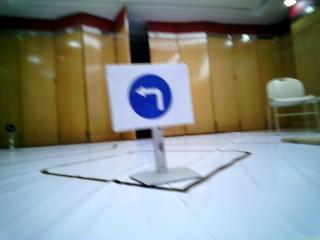left: (105, 65, 194, 123)
